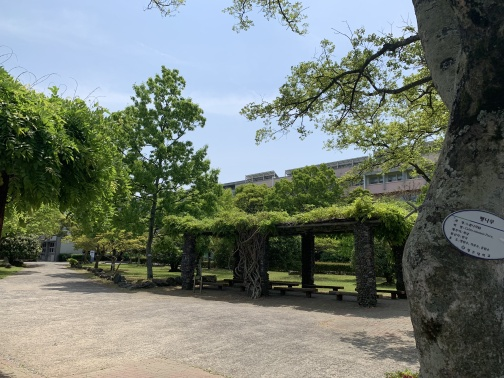College Of Education: (233, 132, 451, 209), (319, 143, 444, 203)
